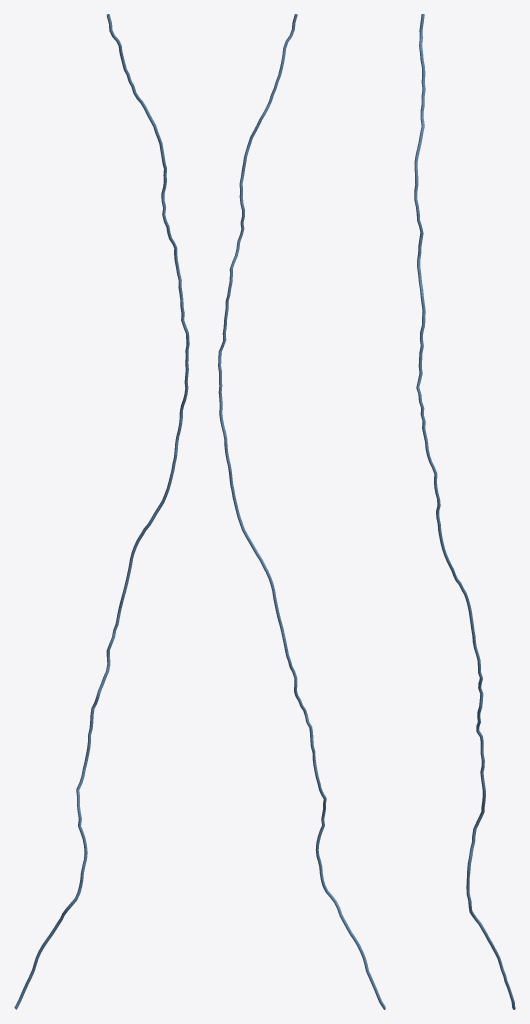
The model's file is sweep69.fbx.
3 views of the same model, side by side, from view 1: azimuth 30°, elevation 25°; view 2: azimuth 210°, elevation 25°; view 3: azimuth 270°, elevation 25° (orthographic). The views are drawn at different scales.
Visible parts, largest first — view 1: sweep69; view 2: sweep69; view 3: sweep69.
Boxes of the visible parts, <box> form: sweep69: <box>14,14,189,1009</box>; sweep69: <box>218,14,385,1009</box>; sweep69: <box>414,14,515,1009</box>.
Size of the model in its own units: 0.9092 by 6.79 by 0.6144.
